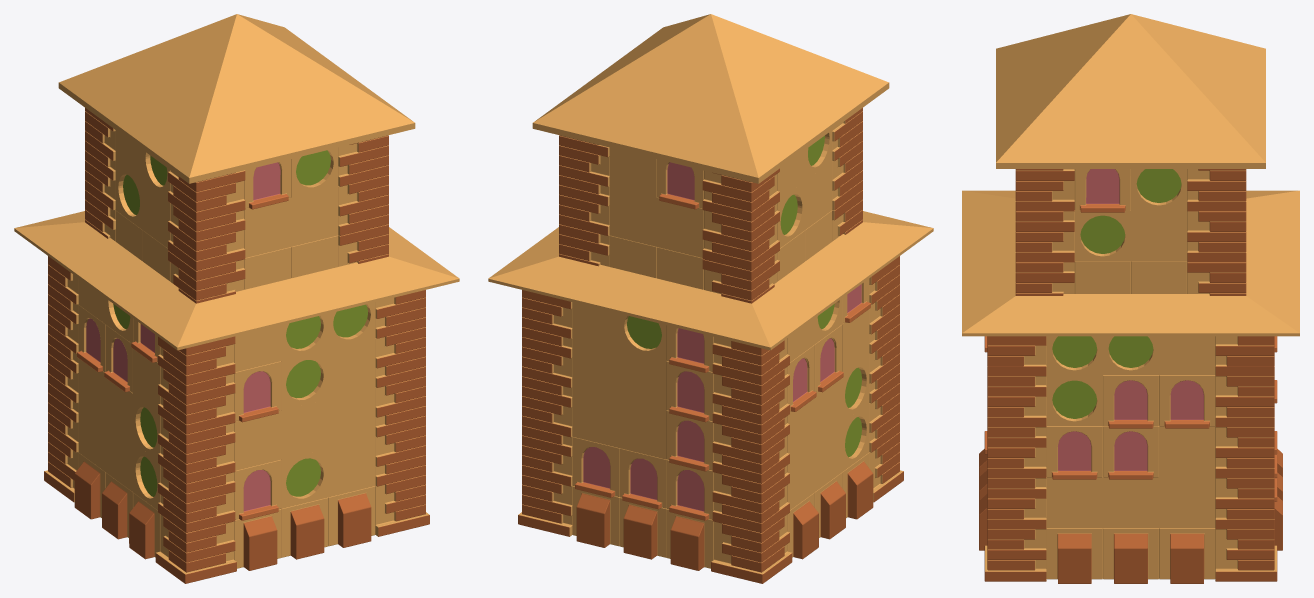
File: house v3.fbx
3 renders of one model, left to right at view 1: azimuth 30°, elevation 25°; view 2: azimuth 150°, elevation 25°; view 3: azimuth 270°, elevation 25°, orthographic. The views are drawn at different scales.
Parts seen in each view (by area): view 1: House; view 2: House; view 3: House.
Part boxes in pixels (box(x1,y1,x2,y2)): House: box(14, 14, 459, 583); House: box(488, 14, 933, 583); House: box(962, 14, 1299, 583).
Bounding box in the file's own units: 600 × 992 × 600.
